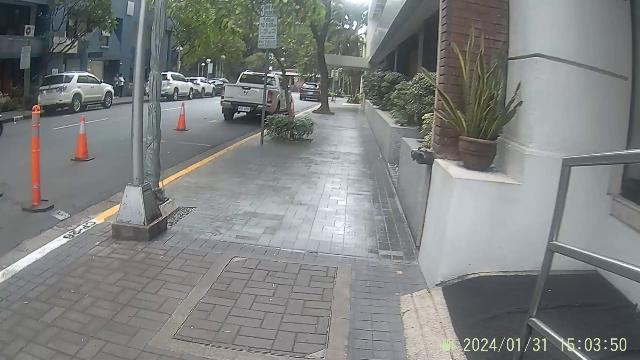potted_plant: (446, 54, 502, 178)
street_sign: (256, 1, 280, 150)
tree: (312, 32, 338, 118)
utility_post: (116, 0, 166, 240)
